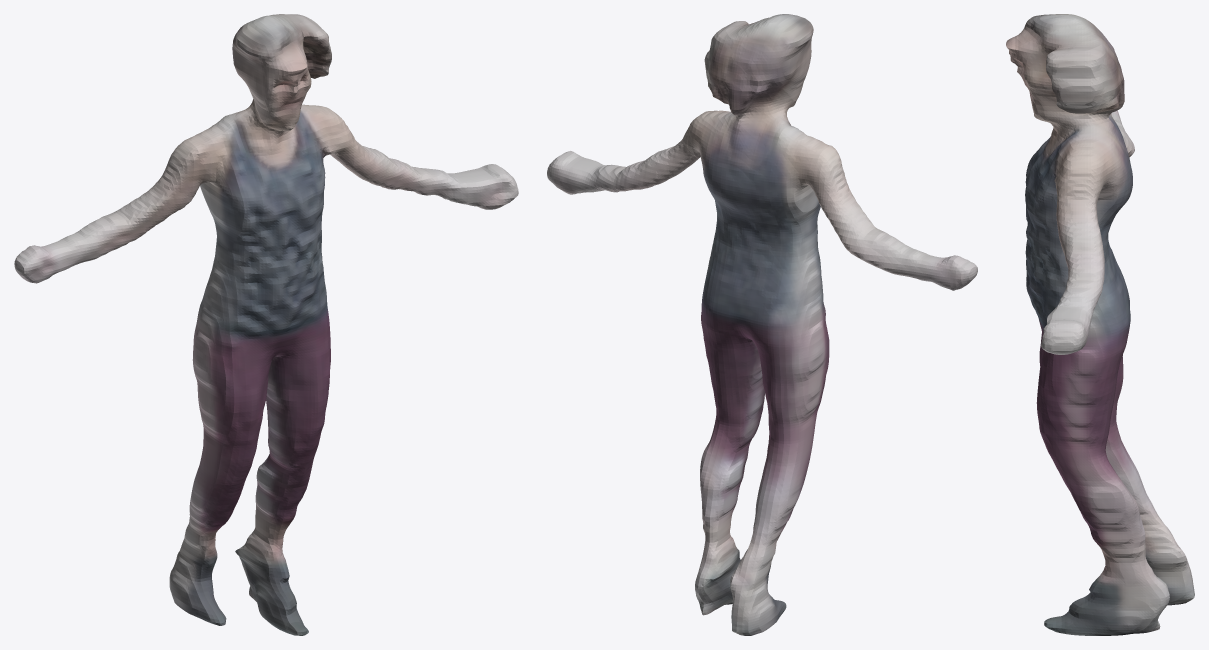
File: 0047_tex.glb
3 views of the same model, side by side, from view 1: azimuth 30°, elevation 25°; view 2: azimuth 150°, elevation 25°; view 3: azimuth 270°, elevation 25° (orthographic). The views are drawn at different scales.
Parts seen in each view (by area): view 1: 0047_tex.obj; view 2: 0047_tex.obj; view 3: 0047_tex.obj.
Boxes of the visible parts, x1,y1,x2,y2 form: 0047_tex.obj: [14, 14, 518, 635]; 0047_tex.obj: [547, 14, 977, 635]; 0047_tex.obj: [1006, 14, 1194, 635].
Bounding box in the file's own units: 0.7183 × 0.8942 × 0.2541.
